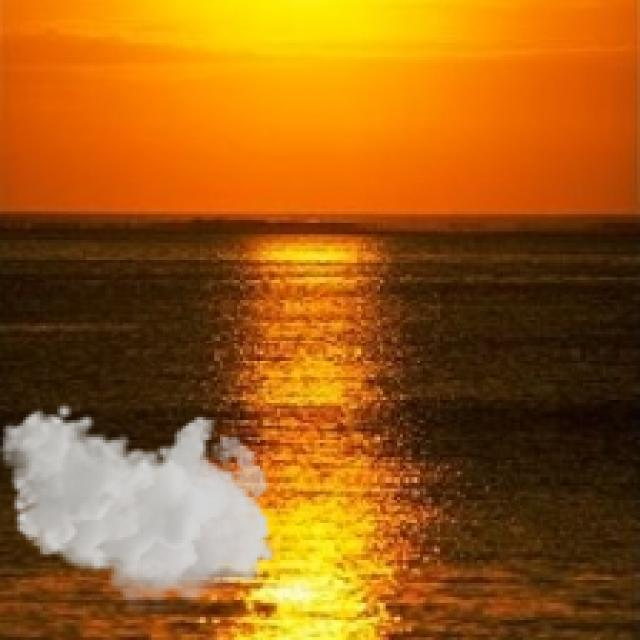smoke: (0, 403, 277, 611)
